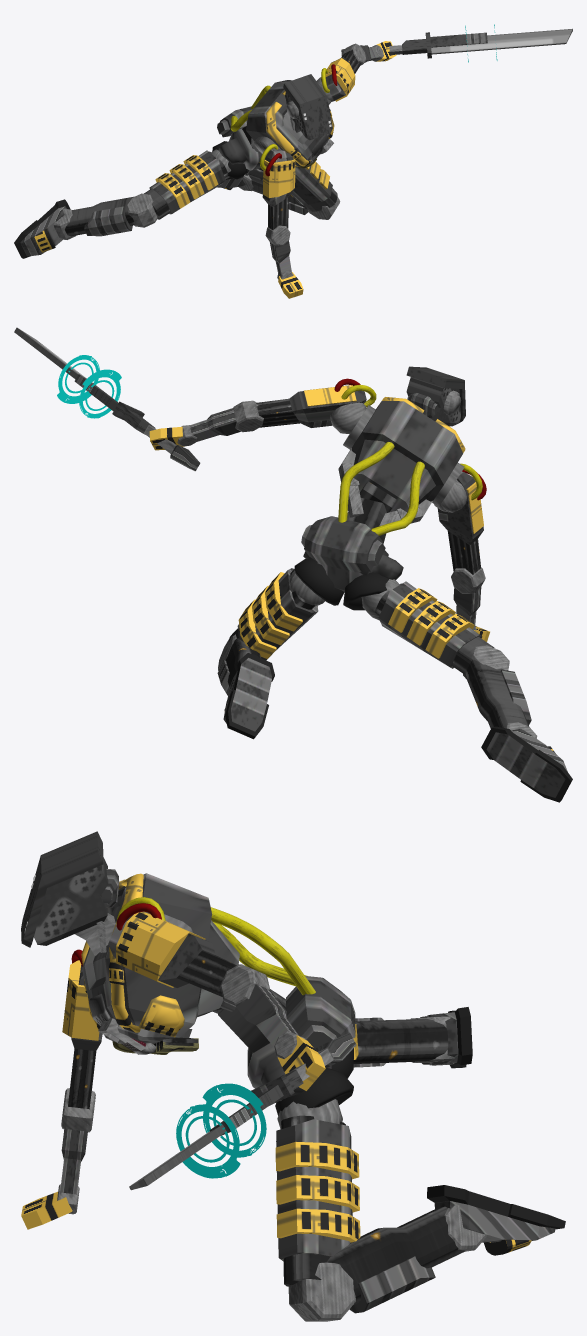
File: Robot 9 pose.fbx
The picture shows the model from 3 angles, top to bottom: view 1: azimuth 30°, elevation 25°; view 2: azimuth 150°, elevation 25°; view 3: azimuth 270°, elevation 25°; orthographic projection. The views are drawn at different scales.
Visible parts, largest first — view 1: Cube.021, Icosphere.011, Cylinder.001, Cube.001, Cube.052, Icosphere.004, Cube.011, Cube.015, Icosphere.009, Icosphere.002, Cylinder, Cylinder.003 (+2 smaller); view 2: Cube.021, Cube.011, Icosphere.011, Icosphere.009, Icosphere.002, Cube.001, Cube.015, Cylinder.001, Icosphere.004, Cube.043, Cube.052, Cylinder.007 (+3 smaller); view 3: Cube.021, Icosphere.009, Cylinder.003, Cube.052, Cube.001, Icosphere.002, Cube.011, Cube.043, Cylinder.001, Cylinder.007, Icosphere.004, Cylinder (+5 smaller).
Part boxes in pixels (x1,y1,x2,y2): Cube.021: [230, 80, 334, 168]; Icosphere.011: [144, 149, 230, 219]; Cylinder.001: [54, 193, 157, 239]; Cube.001: [341, 24, 572, 62]; Cube.052: [283, 74, 332, 140]; Icosphere.004: [259, 144, 295, 229]; Cube.011: [212, 106, 263, 179]; Cube.015: [14, 199, 70, 258]; Icosphere.009: [290, 161, 337, 211]; Icosphere.002: [316, 49, 361, 101]; Cylinder: [265, 225, 293, 279]; Cylinder.003: [239, 169, 340, 219]; Cube.021: [338, 397, 465, 535]; Cube.011: [294, 516, 403, 610]; Icosphere.011: [361, 579, 494, 674]; Icosphere.009: [229, 568, 324, 660]; Icosphere.002: [256, 378, 376, 433]; Cube.001: [14, 327, 200, 471]; Cube.015: [481, 726, 572, 802]; Cylinder.001: [463, 645, 537, 738]; Icosphere.004: [434, 463, 486, 574]; Cube.043: [223, 653, 274, 739]; Cube.052: [406, 366, 465, 426]; Cylinder.007: [177, 400, 263, 446]; Cube.021: [81, 873, 315, 1054]; Icosphere.009: [275, 1099, 360, 1286]; Cylinder.003: [288, 1205, 487, 1321]; Cube.052: [21, 831, 119, 947]; Cube.001: [129, 1032, 356, 1190]; Icosphere.002: [108, 897, 236, 996]; Cube.011: [247, 976, 355, 1115]; Cube.043: [427, 1185, 565, 1255]; Cylinder.001: [353, 1016, 454, 1067]; Cylinder.007: [220, 964, 305, 1058]; Icosphere.004: [62, 949, 102, 1109]; Cylinder: [57, 1088, 95, 1214].
Bounding box in the file's own units: 1800 × 724 × 882.
